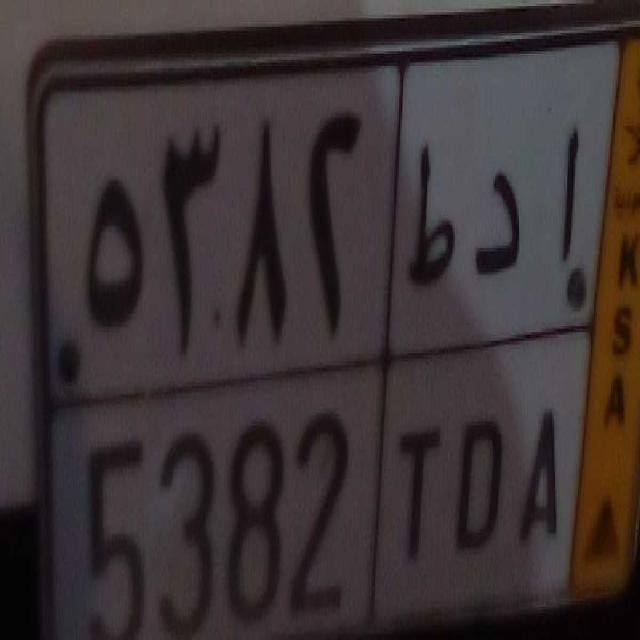license_plate: (45, 350, 576, 640)
